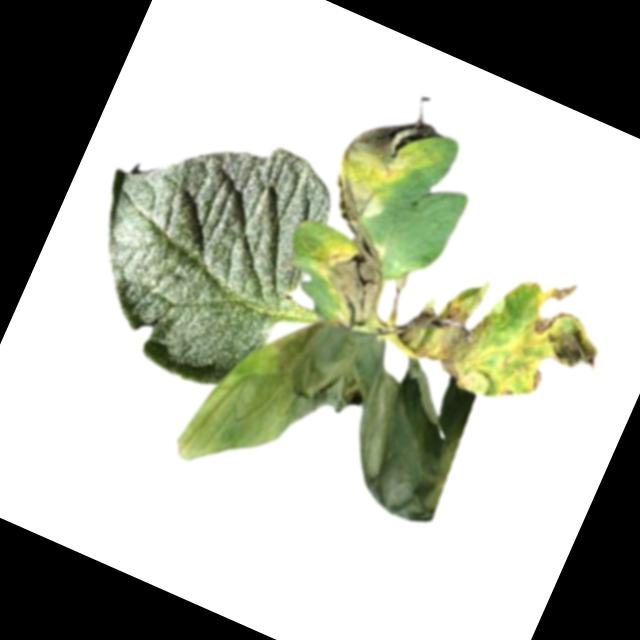Late_blight: (170, 280, 490, 561), (382, 224, 626, 437), (317, 96, 452, 249), (298, 222, 400, 330)
